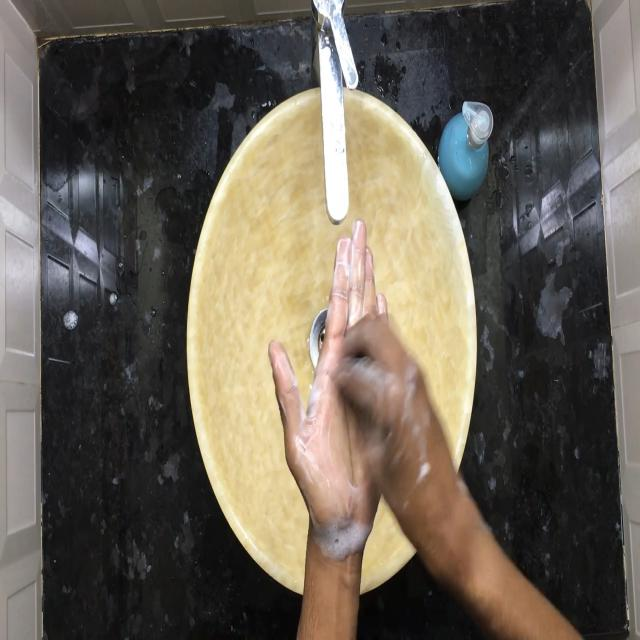step_6: (262, 211, 454, 557)
